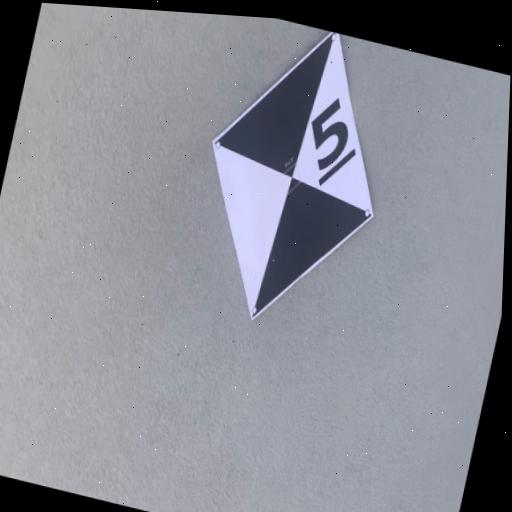target5: (211, 31, 372, 321)
